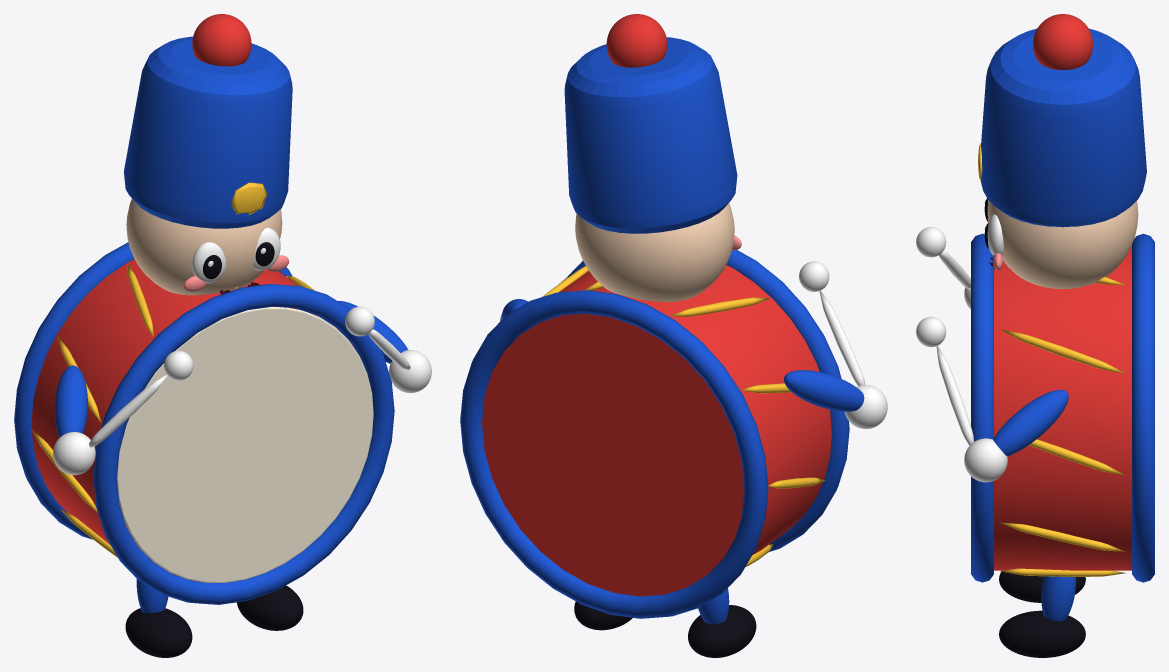
3 views of the same model, side by side, from view 1: azimuth 30°, elevation 25°; view 2: azimuth 150°, elevation 25°; view 3: azimuth 270°, elevation 25° (orthographic). The views are drawn at different scales.
Visible parts, largest first — view 1: skin, busby, hoop-0.47, drum, head, hoop0.47, boot-1, pom, boot1, arm-1, hand-1, hand1 (+6 smaller); view 2: drum, busby, hoop0.47, head, hoop-0.47, pom, boot-1, arm-1, hand-1, stick-1, boot1, rope9 (+2 smaller); view 3: drum, busby, hoop0.47, head, hoop-0.47, boot1, pom, arm1, hand1, leg1, boot-1, stick1 (+8 smaller).
Part boxes in pixels (bbox=[...]): skin: bbox=[117, 307, 373, 582]; busby: bbox=[124, 36, 292, 228]; hoop-0.47: bbox=[93, 284, 394, 604]; drum: bbox=[31, 259, 370, 581]; head: bbox=[126, 199, 282, 295]; hoop0.47: bbox=[14, 242, 292, 539]; boot-1: bbox=[125, 608, 192, 657]; pom: bbox=[192, 14, 251, 66]; boot1: bbox=[237, 585, 303, 630]; arm-1: bbox=[55, 365, 87, 437]; hand-1: bbox=[53, 432, 95, 475]; hand1: bbox=[389, 350, 431, 393]; drum: bbox=[482, 265, 831, 596]; busby: bbox=[564, 37, 737, 233]; hoop0.47: bbox=[460, 290, 768, 618]; head: bbox=[575, 203, 734, 301]; hoop-0.47: bbox=[567, 250, 849, 551]; pom: bbox=[606, 14, 667, 67]; boot-1: bbox=[688, 605, 756, 657]; arm-1: bbox=[784, 370, 864, 411]; hand-1: bbox=[844, 385, 887, 428]; stick-1: bbox=[819, 290, 865, 385]; boot1: bbox=[574, 601, 632, 630]; rope9: bbox=[670, 297, 770, 316]; drum: bbox=[994, 246, 1131, 570]; busby: bbox=[980, 28, 1146, 227]; hoop0.47: bbox=[1132, 233, 1154, 582]; head: bbox=[987, 201, 1138, 289]; hoop-0.47: bbox=[971, 233, 993, 582]; boot1: bbox=[999, 610, 1085, 657]; pom: bbox=[1033, 14, 1092, 69]; arm1: bbox=[993, 389, 1068, 456]; hand1: bbox=[964, 438, 1007, 482]; leg1: bbox=[1041, 576, 1075, 621]; boot-1: bbox=[999, 571, 1085, 602]; stick1: bbox=[936, 345, 974, 445].
Size of the model in its own units: 2.55 by 3.99 by 1.39.
